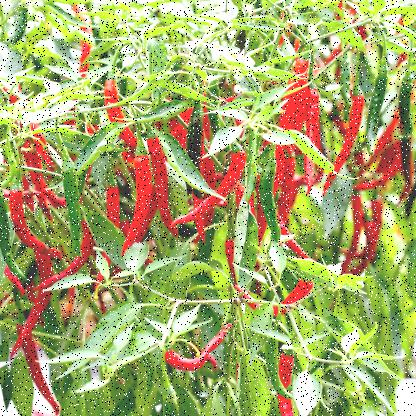chili: (168, 144, 247, 226), (8, 185, 66, 276), (116, 144, 155, 264), (323, 92, 368, 194), (100, 74, 140, 141)
